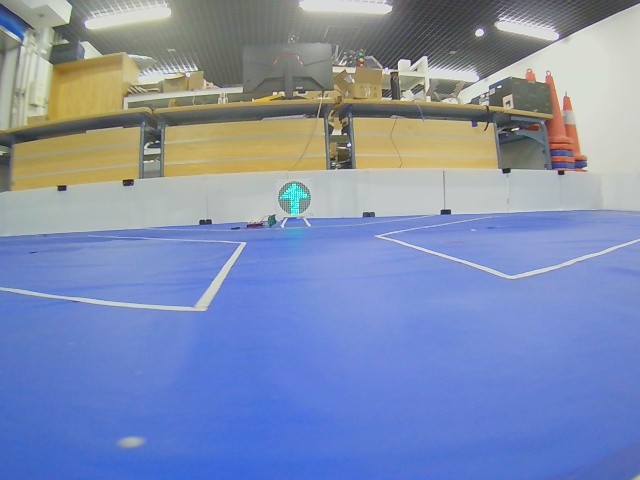straight_green: (278, 181, 311, 216)
